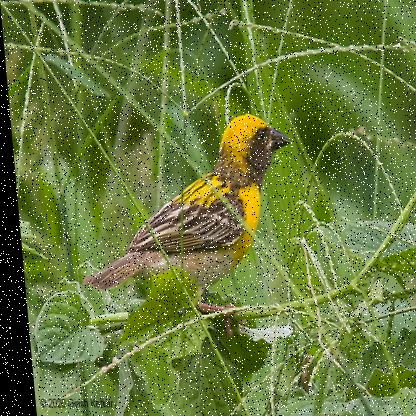Burung: (65, 114, 301, 338)
